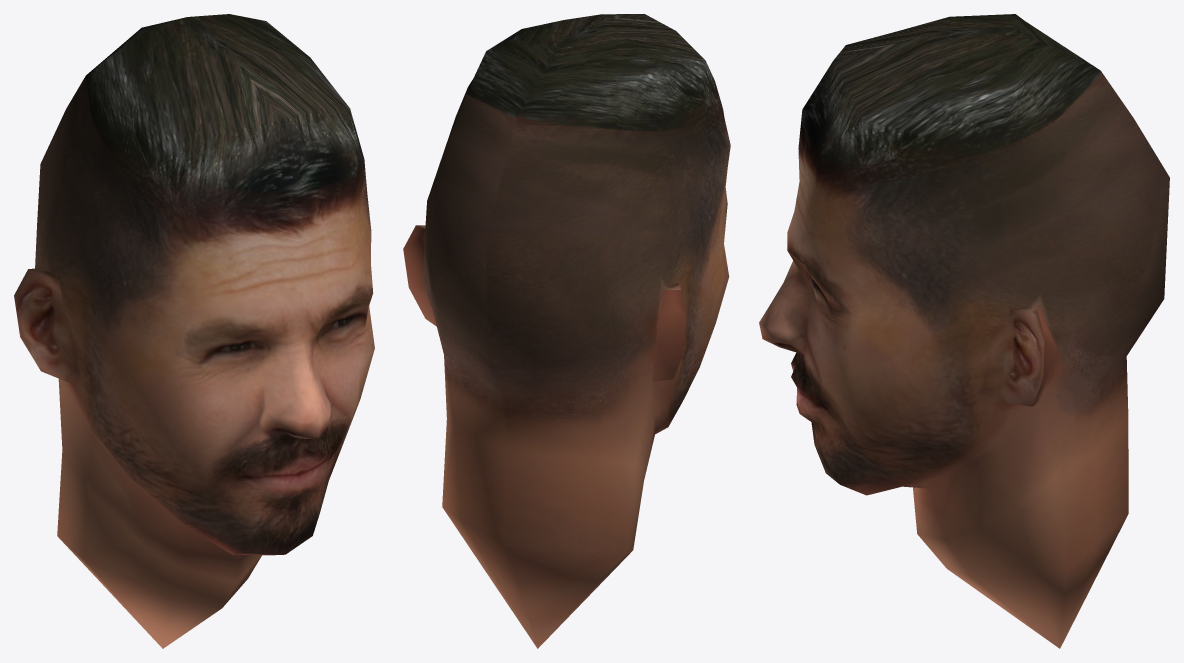
Rendered from XMN_head.fbx.
3 renders of one model, left to right at view 1: azimuth 30°, elevation 25°; view 2: azimuth 150°, elevation 25°; view 3: azimuth 270°, elevation 25°, orthographic. The views are drawn at different scales.
Parts seen in each view (by area): view 1: head; view 2: head; view 3: head.
Part boxes in pixels (bbox=[...]): head: bbox=[14, 14, 374, 648]; head: bbox=[403, 14, 730, 648]; head: bbox=[759, 14, 1169, 648].
Size of the model in its own units: 18.67 by 36.93 by 22.16.
